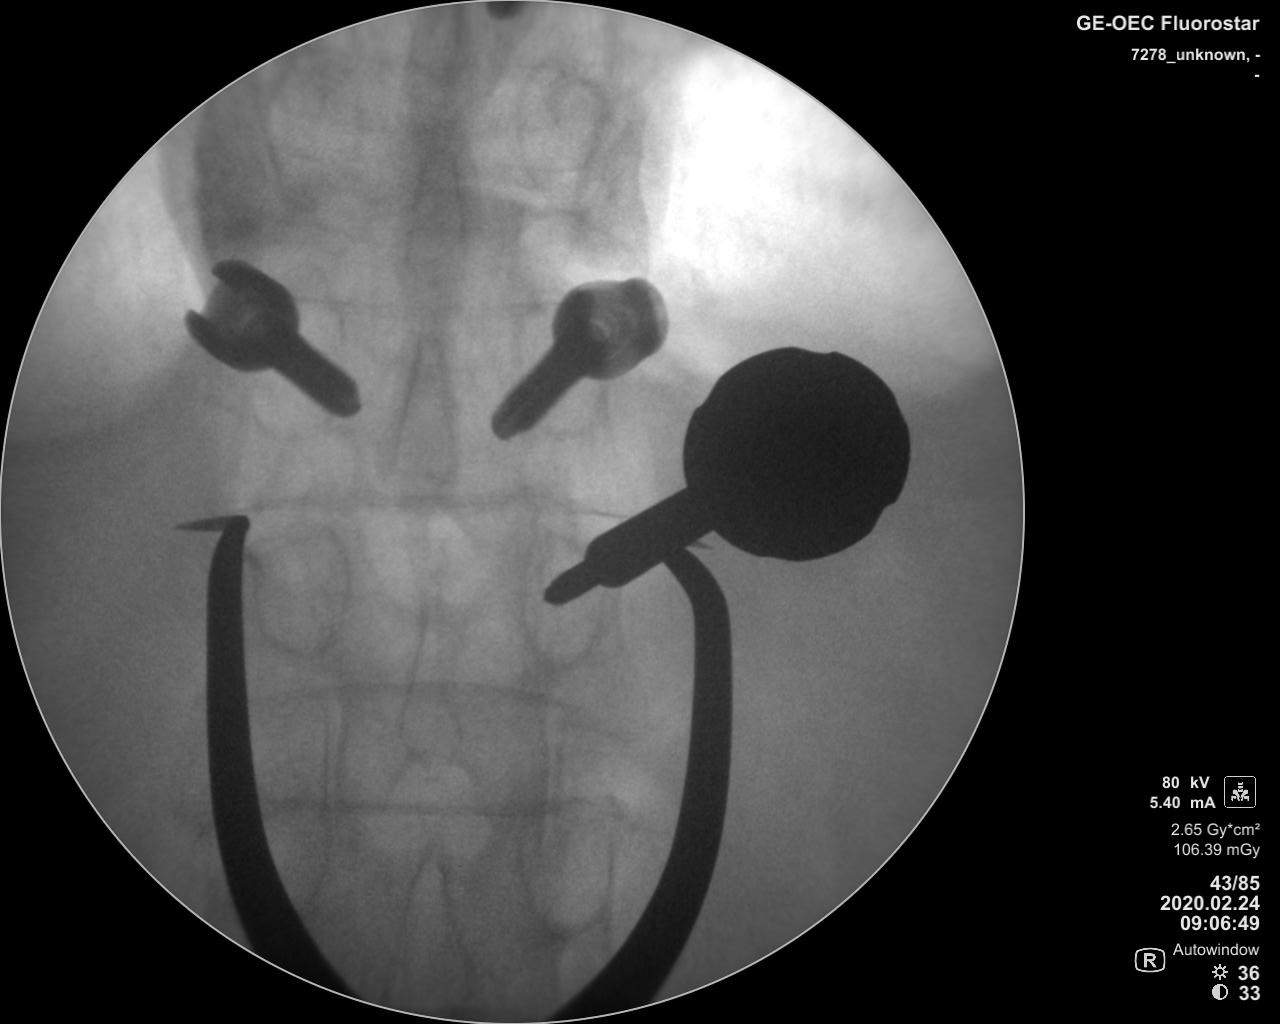eyes: (245, 286, 348, 444), (253, 521, 355, 664), (514, 55, 606, 212), (266, 57, 360, 206), (517, 801, 615, 940), (511, 305, 601, 443), (520, 542, 602, 667)
line: (252, 487, 622, 521), (260, 679, 594, 715), (267, 790, 538, 822), (302, 289, 550, 324)
nose: (393, 585, 465, 777), (385, 332, 462, 504), (395, 845, 471, 1018), (399, 140, 468, 294), (408, 10, 471, 119)
